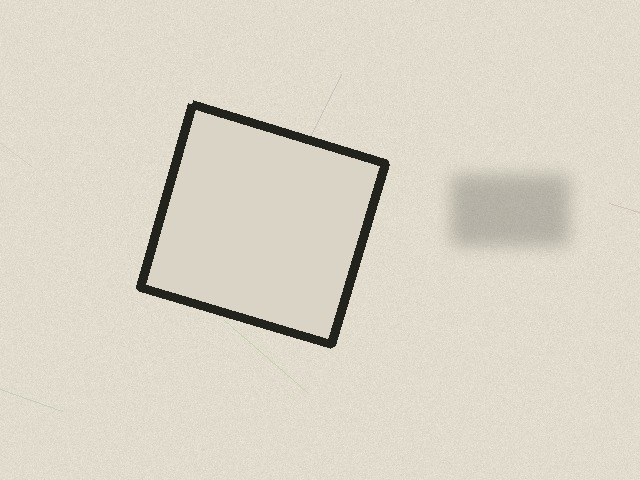parking_area: (140, 104, 385, 344)
